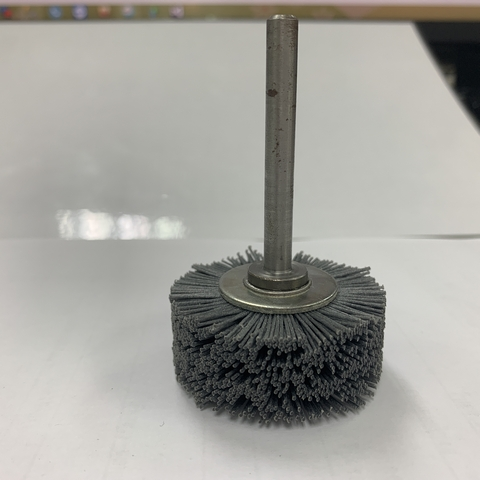Wheel Brush: (195, 15, 412, 424), (179, 10, 382, 424), (137, 145, 423, 435), (147, 72, 359, 440)
